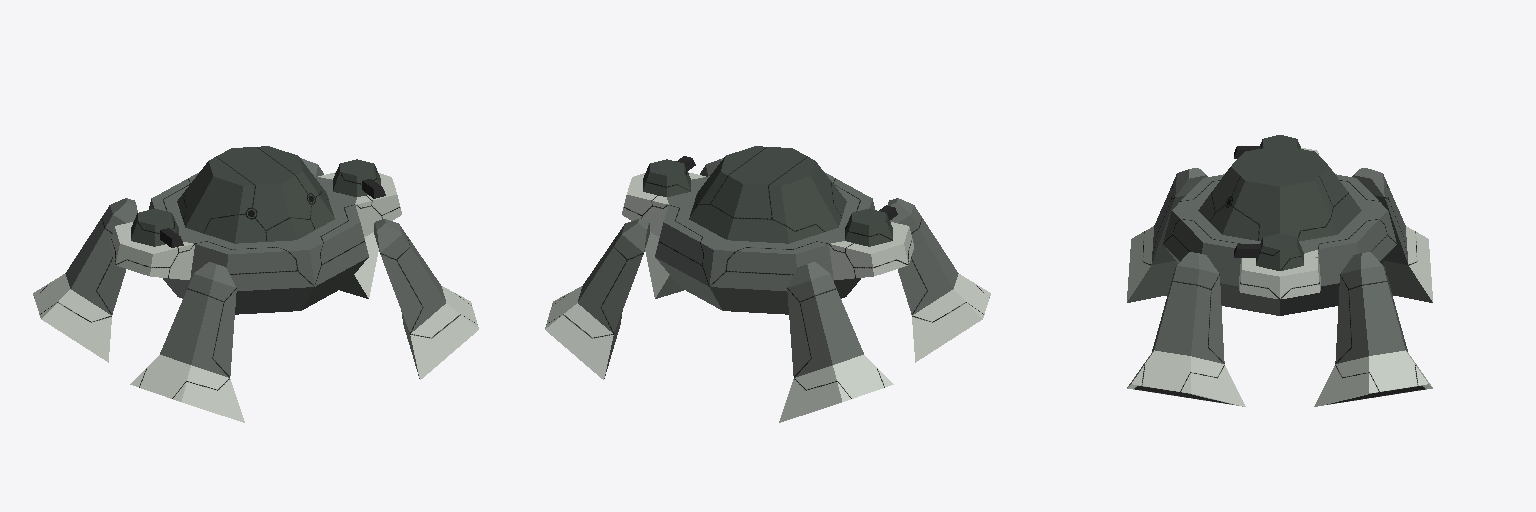
3 renders of one model, left to right at view 1: azimuth 30°, elevation 25°; view 2: azimuth 150°, elevation 25°; view 3: azimuth 270°, elevation 25°, orthographic.
Parts seen in each view (by area): view 1: EnemyM_Sphere.001; view 2: EnemyM_Sphere.001; view 3: EnemyM_Sphere.001.
Part boxes in pixels (left/top/right/bottom): EnemyM_Sphere.001: left=33, top=146, right=478, bottom=422; EnemyM_Sphere.001: left=545, top=146, right=990, bottom=422; EnemyM_Sphere.001: left=1127, top=135, right=1432, bottom=406.
Size of the model in its own units: 8.06 by 4.07 by 6.29.
Materials: 1 (1 with a texture image).